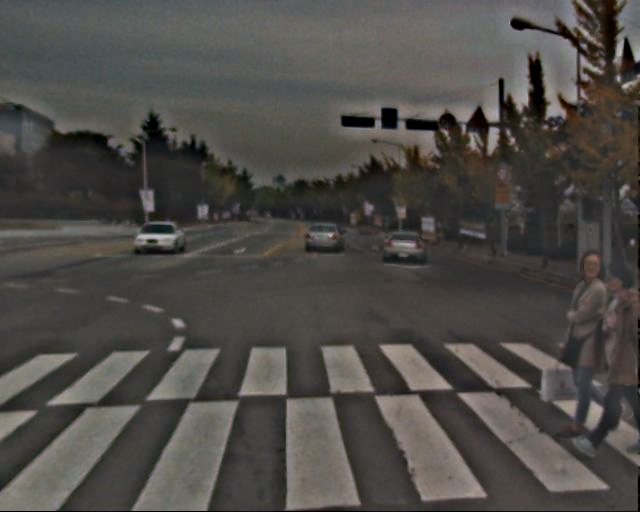person: (557, 245, 628, 451), (576, 250, 640, 467)
